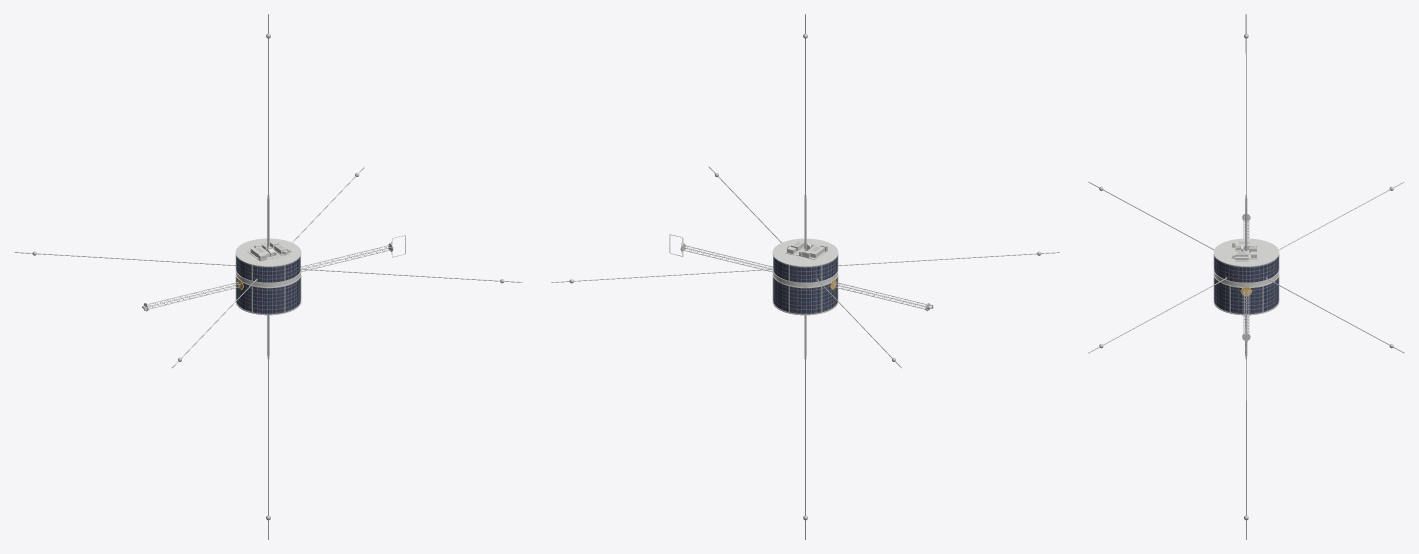
File: polar.glb
3 views of the same model, side by side, from view 1: azimuth 30°, elevation 25°; view 2: azimuth 150°, elevation 25°; view 3: azimuth 270°, elevation 25° (orthographic).
Visible parts, largest first — view 1: polar; view 2: polar; view 3: polar.
Boxes of the visible parts, x1,y1,x2,y2 form: polar: (14, 14, 522, 539); polar: (551, 14, 1059, 539); polar: (1088, 14, 1404, 539).
Size of the model in its own units: 15.06 by 21.55 by 11.76.
4 materials, 1 textured.
